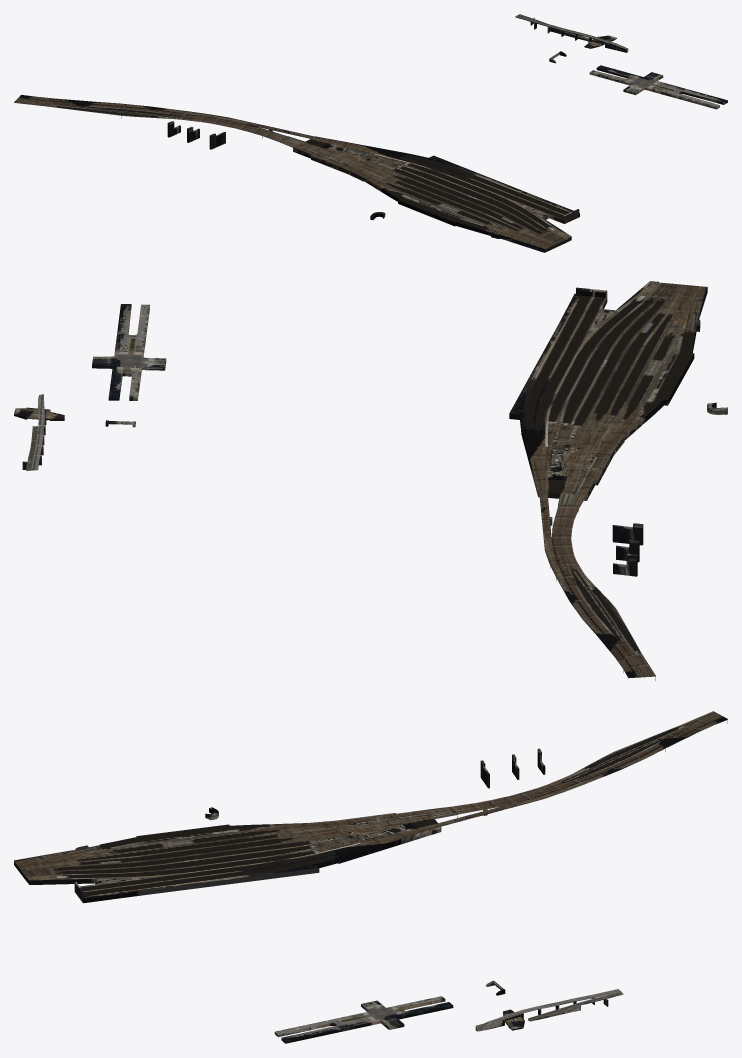
File: 53394611_brid_6697_op.gltf
The picture shows the model from 3 angles, top to bottom: view 1: azimuth 30°, elevation 25°; view 2: azimuth 150°, elevation 25°; view 3: azimuth 270°, elevation 25°; orthographic projection. The views are drawn at different scales.
Visible parts, largest first — view 1: group2; view 2: group2; view 3: group2.
Boxes of the visible parts, x1,y1,x2,y2 form: group2: (14,14,727,252); group2: (14,281,727,680); group2: (14,711,727,1043).
Bounding box in the file's own units: 1235 × 36.58 × 1143.
Materials: 6 (6 with a texture image).
